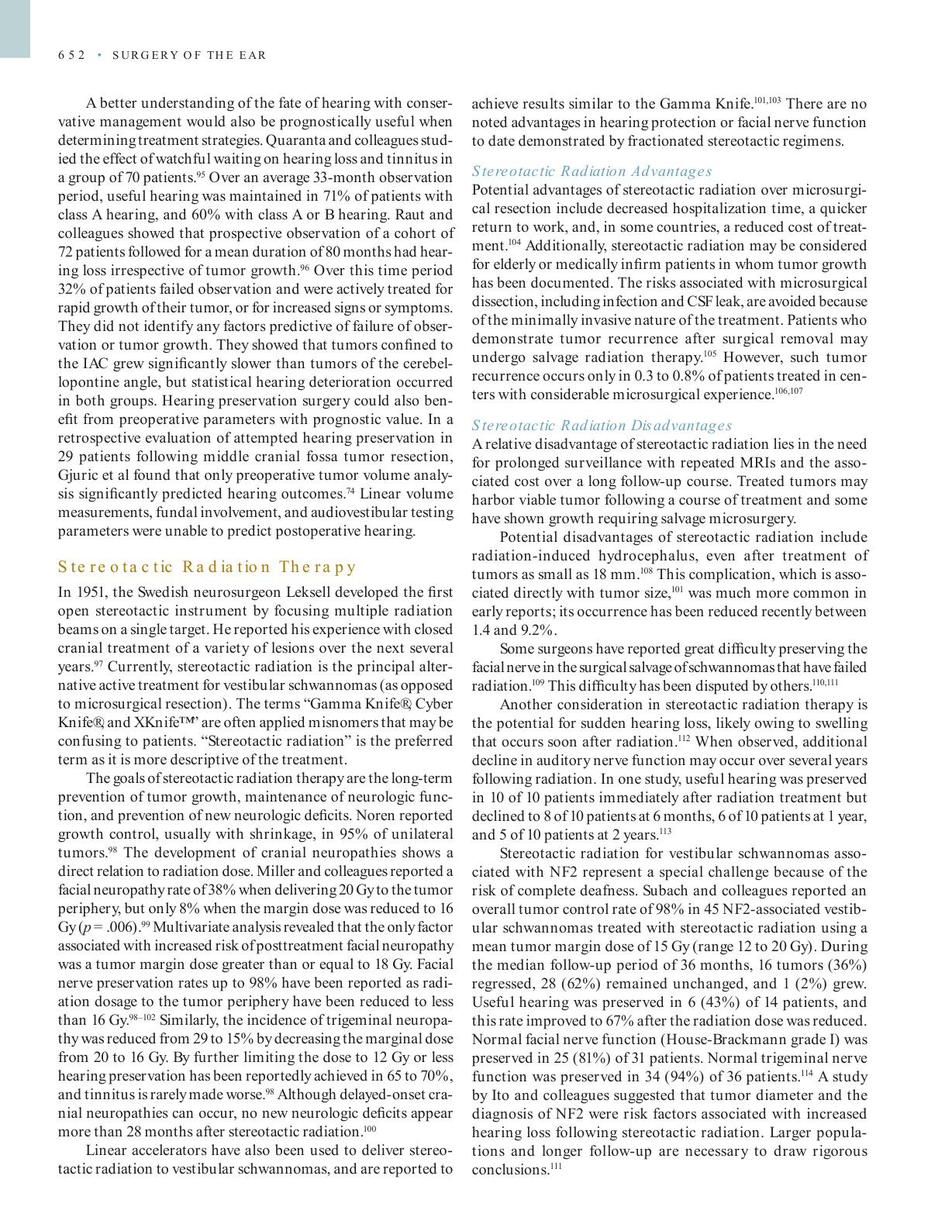header: (111, 49, 267, 61)
section-heading: (58, 559, 357, 578)
sub-section-heading: (470, 418, 733, 435), (471, 163, 713, 180)
text: (469, 436, 872, 1178), (56, 583, 456, 1179), (55, 94, 456, 541), (471, 181, 870, 405), (469, 94, 870, 152)
